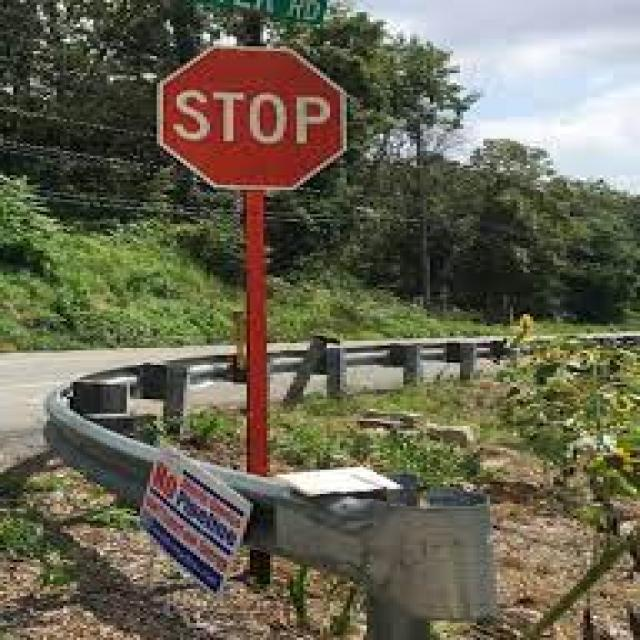stop-sign: (150, 41, 401, 206)
